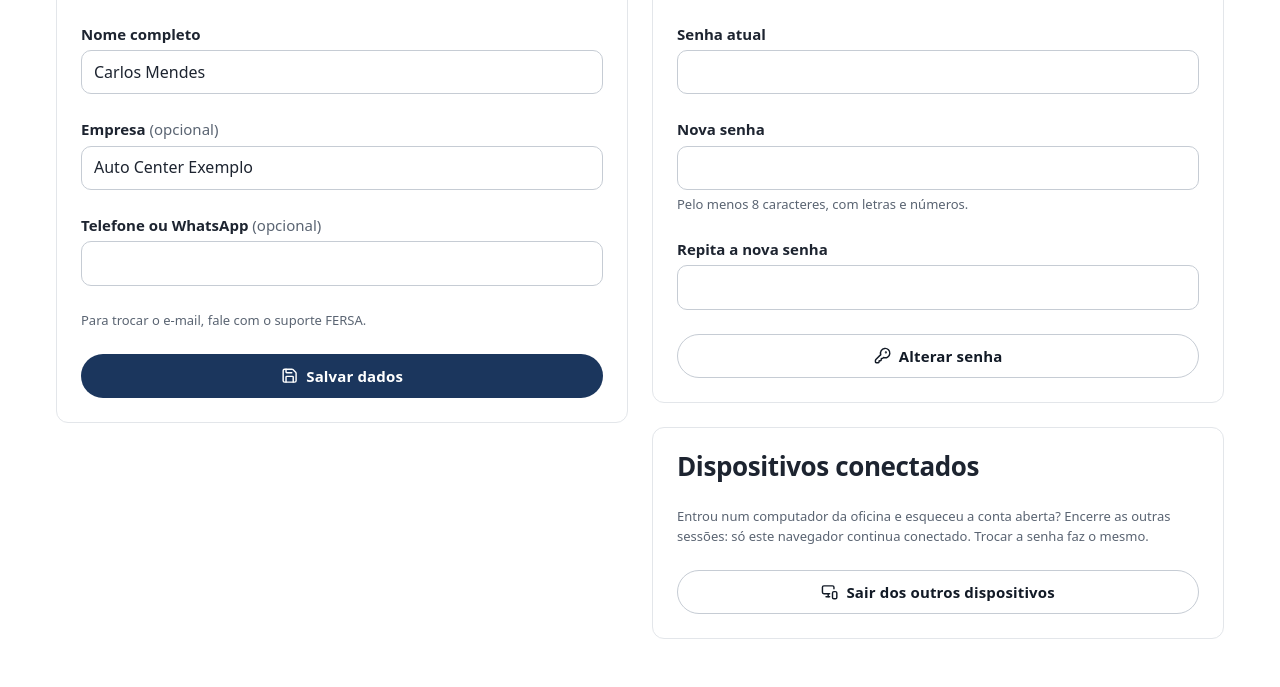
Test: Minha conta: segurança da sessão › se a API falhar, avisa o erro
The image size is (1280, 687).
(page scrolled)
What coordinates should you click on to do the following:
click the button "Sair dos outros dispositivos"
I would click on:
 (938, 592)
Its box is [677,570,1199,614].
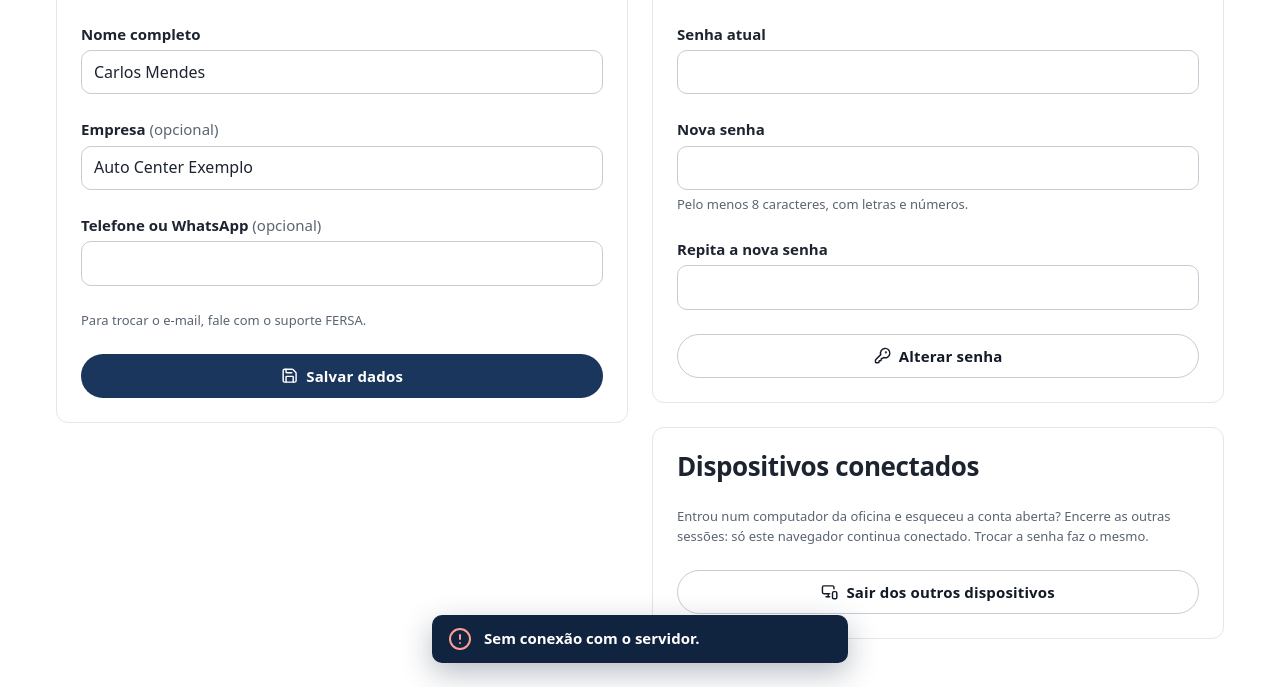
Expected: the text "Sem conexão com o servidor." is shown, [484,627,700,651]
